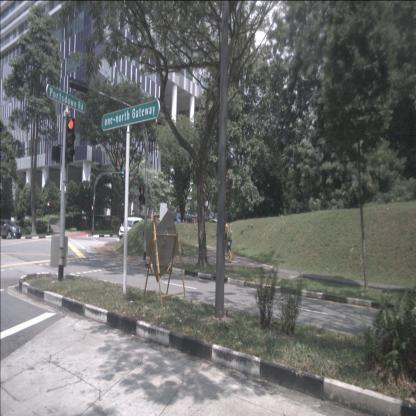vehicle-bus-rigid: (169, 213, 196, 236)
vehicle-car: (119, 217, 143, 242), (0, 218, 23, 240)
